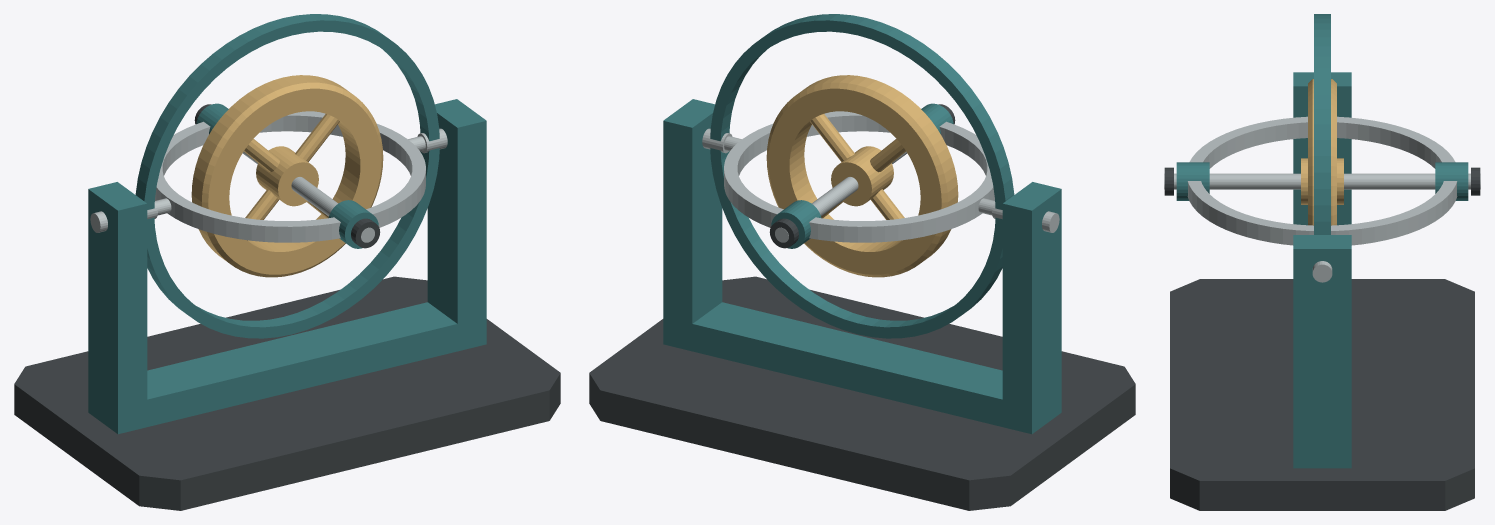
3 views of the same model, side by side, from view 1: azimuth 30°, elevation 25°; view 2: azimuth 150°, elevation 25°; view 3: azimuth 270°, elevation 25° (orthographic).
Visible parts, largest first — view 1: WholeWideGroundBase, WholeContinuousUSupport, WholeUprightOuterGimbal, WholeThickFlywheelRim, WholeHorizontalInnerGimbal, WholeFlywheelHub, WholeShaftBearingCollar0, WholeTransverseFlywheelShaft, WholeFlywheelRadialSpoke0, WholeFlywheelRadialSpoke1; view 2: WholeWideGroundBase, WholeContinuousUSupport, WholeUprightOuterGimbal, WholeThickFlywheelRim, WholeHorizontalInnerGimbal, WholeFlywheelHub, WholeShaftBearingCollar1, WholeTransverseFlywheelShaft, WholeFlywheelRadialSpoke0, WholeFlywheelRadialSpoke1; view 3: WholeWideGroundBase, WholeContinuousUSupport, WholeHorizontalInnerGimbal, WholeUprightOuterGimbal, WholeTransverseFlywheelShaft, WholeThickFlywheelRim, WholeShaftBearingCollar0, WholeShaftBearingCollar1, WholeFlywheelHub, WholeOuterSupportPin1.
Boxes of the visible parts, x1,y1,x2,y2 form: WholeWideGroundBase: (14, 276, 560, 510); WholeContinuousUSupport: (88, 99, 486, 434); WholeUprightOuterGimbal: (135, 14, 439, 338); WholeThickFlywheelRim: (191, 75, 383, 277); WholeHorizontalInnerGimbal: (155, 111, 425, 242); WholeFlywheelHub: (256, 146, 318, 206); WholeShaftBearingCollar0: (328, 200, 378, 248); WholeTransverseFlywheelShaft: (242, 151, 374, 242); WholeFlywheelRadialSpoke0: (295, 114, 339, 161); WholeFlywheelRadialSpoke1: (244, 139, 279, 172); WholeWideGroundBase: (589, 276, 1135, 510); WholeContinuousUSupport: (663, 99, 1061, 434); WholeUprightOuterGimbal: (710, 14, 1014, 338); WholeThickFlywheelRim: (766, 75, 958, 277); WholeHorizontalInnerGimbal: (724, 111, 994, 242); WholeFlywheelHub: (831, 146, 893, 206); WholeShaftBearingCollar1: (771, 200, 821, 248); WholeTransverseFlywheelShaft: (775, 151, 907, 242); WholeFlywheelRadialSpoke0: (810, 114, 854, 161); WholeFlywheelRadialSpoke1: (870, 139, 905, 172); WholeWideGroundBase: (1170, 279, 1474, 510); WholeContinuousUSupport: (1293, 72, 1351, 468); WholeHorizontalInnerGimbal: (1187, 116, 1457, 245); WholeUprightOuterGimbal: (1314, 14, 1330, 234); WholeTransverseFlywheelShaft: (1164, 173, 1480, 189); WholeThickFlywheelRim: (1308, 79, 1336, 225); WholeShaftBearingCollar0: (1176, 162, 1209, 200); WholeShaftBearingCollar1: (1435, 162, 1468, 200); WholeFlywheelHub: (1301, 158, 1343, 204); WholeOuterSupportPin1: (1312, 261, 1332, 282).
Size of the model in its own units: 0.72 by 0.633 by 0.477.
